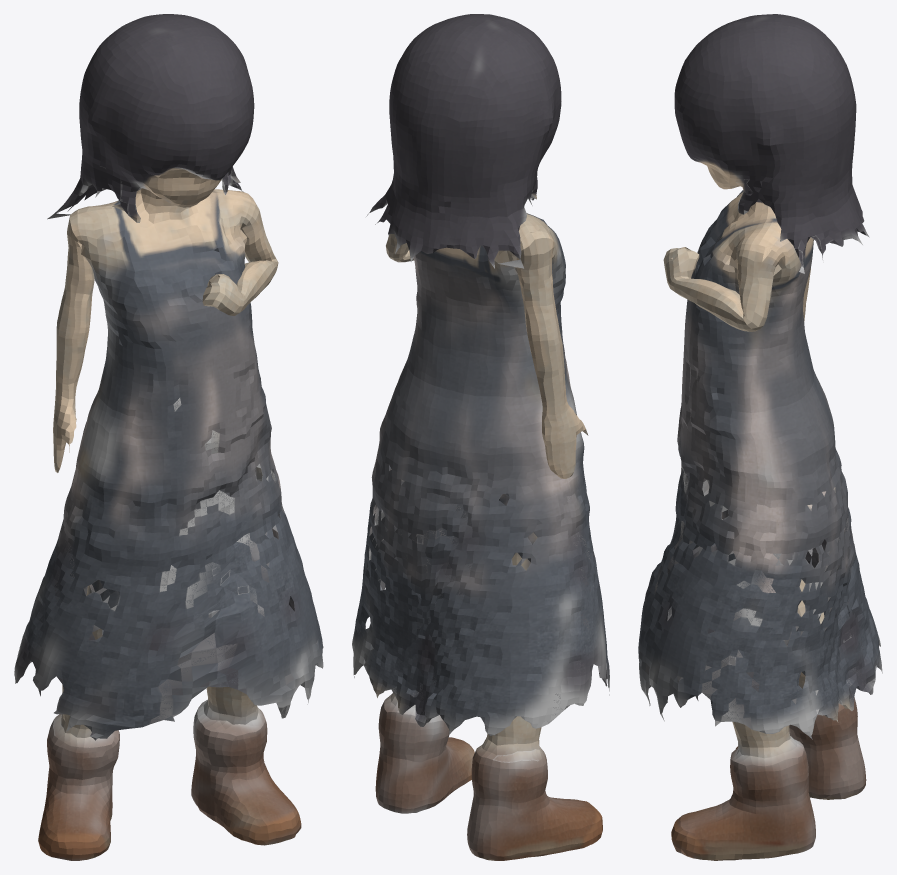
File: Chara_Idol_01.fbx
3 renders of one model, left to right at view 1: azimuth 30°, elevation 25°; view 2: azimuth 150°, elevation 25°; view 3: azimuth 270°, elevation 25°, orthographic.
Parts seen in each view (by area): view 1: PM3D_ce_ping_ju__jian_mian:Group61707; view 2: PM3D_ce_ping_ju__jian_mian:Group61707; view 3: PM3D_ce_ping_ju__jian_mian:Group61707.
Part boxes in pixels (x1=…): PM3D_ce_ping_ju__jian_mian:Group61707: x1=14, y1=14, x2=323, y2=860; PM3D_ce_ping_ju__jian_mian:Group61707: x1=352, y1=14, x2=609, y2=860; PM3D_ce_ping_ju__jian_mian:Group61707: x1=638, y1=14, x2=882, y2=860.
Bounding box in the file's own units: 0.3348 × 0.9935 × 0.2768.
1 material, 1 textured.
